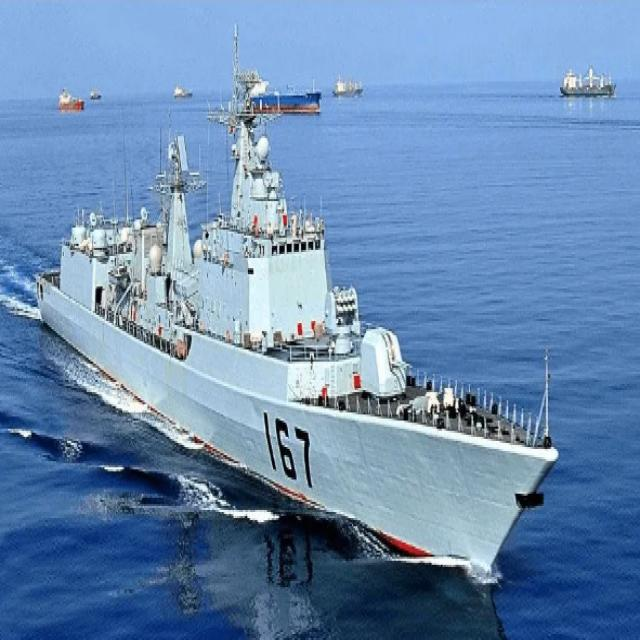cargoship: (252, 72, 322, 110)
navalvessels: (38, 92, 574, 614), (559, 56, 619, 104), (328, 77, 368, 111)
